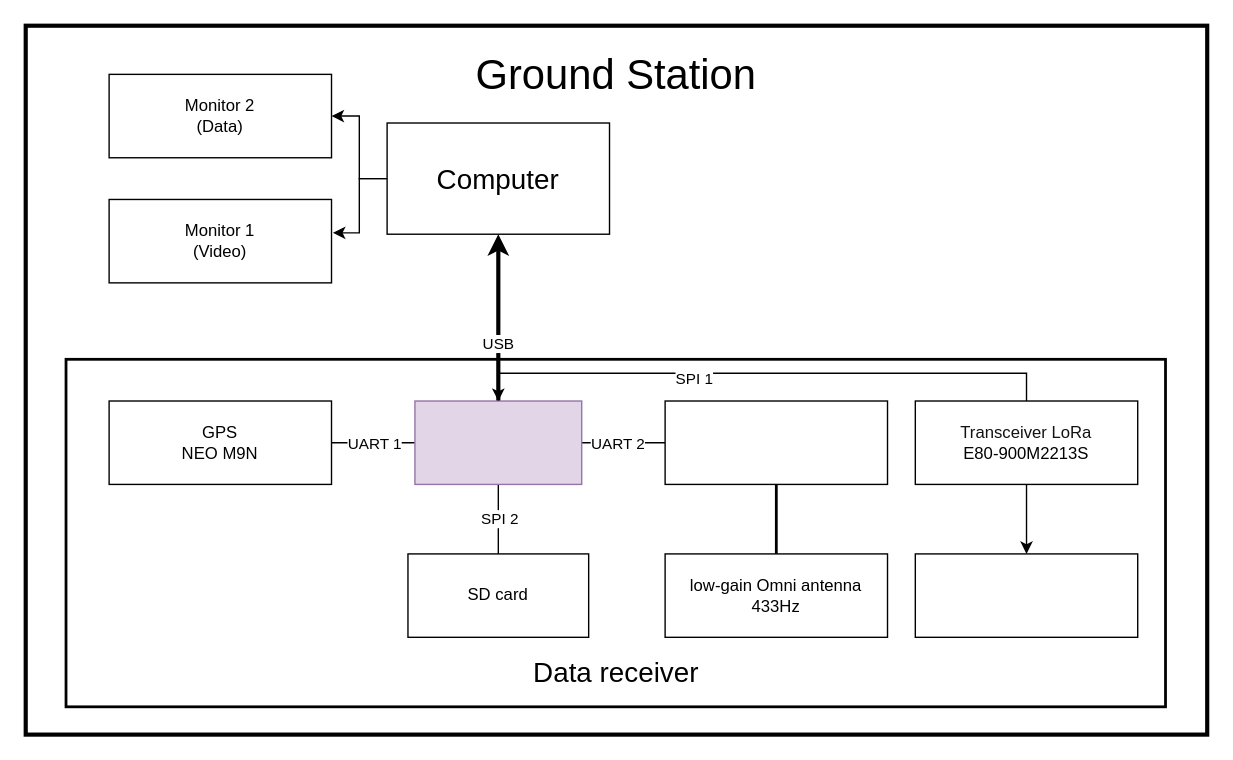
Image size: 1233x760. Some labels were removed from this diagram. The centre of each missing label's shape, as x and y in pixels:
High-gain antenna +auto tracking 920Hz: [1026,595]
MCU (Secondary) STM32F103C8T6: [498,442]
Transceiver LoRa E22-400T30S: [776,442]
